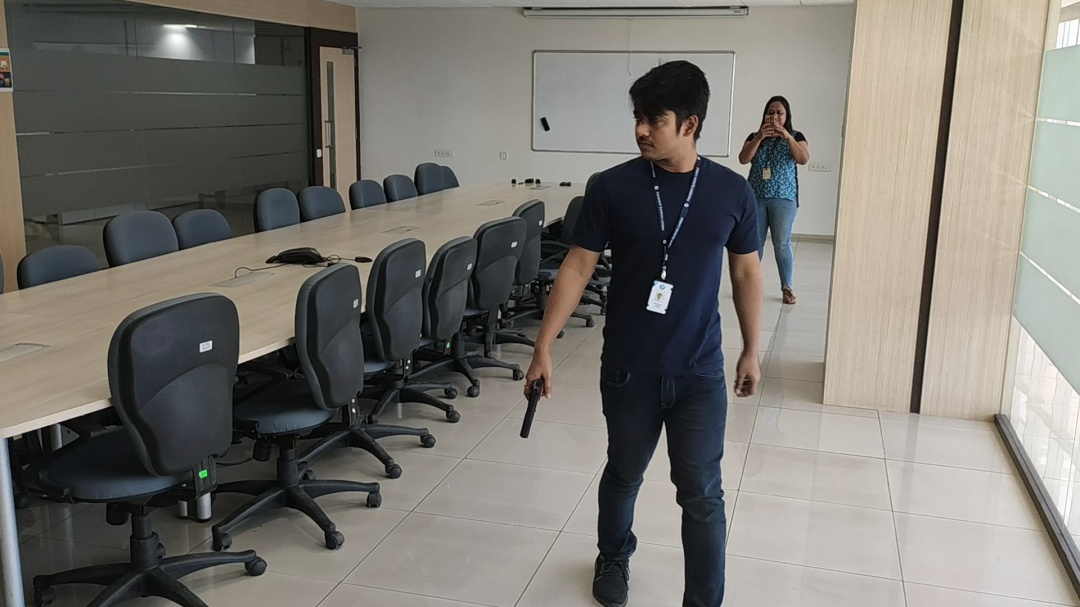gun: (517, 373, 551, 445)
